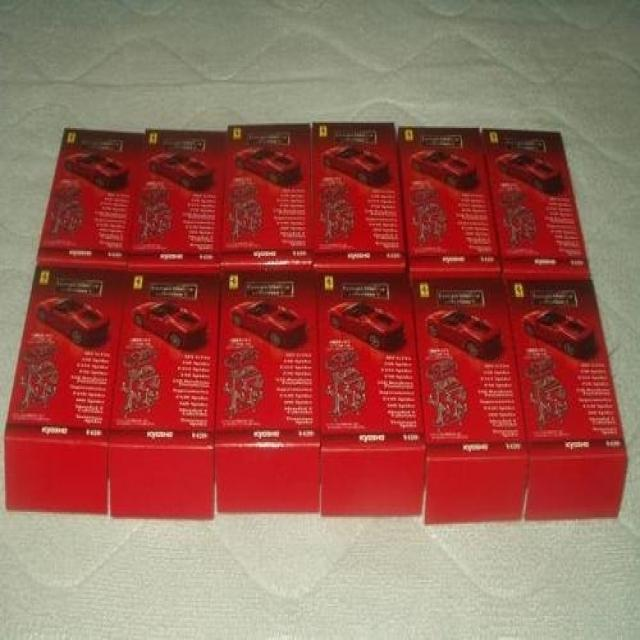box: (5, 259, 128, 514), (505, 273, 630, 523), (411, 271, 530, 525), (110, 266, 222, 522), (315, 266, 426, 517), (214, 265, 318, 518), (482, 130, 592, 277), (398, 129, 504, 267), (39, 128, 144, 262), (313, 122, 408, 268), (128, 130, 229, 265), (221, 124, 317, 261)
